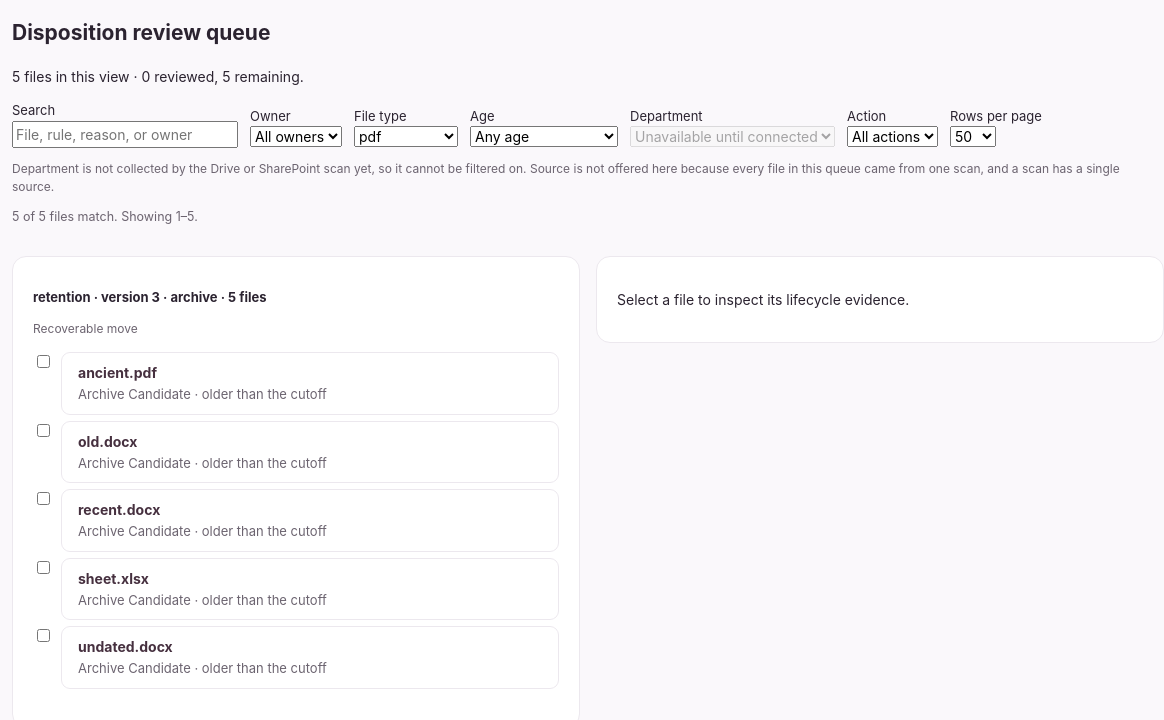
file type › narrows the queue and the count together
Step 1. Select "pdf" in the dropdown labelled "File type" → (406,137), box [354,126,458,147]
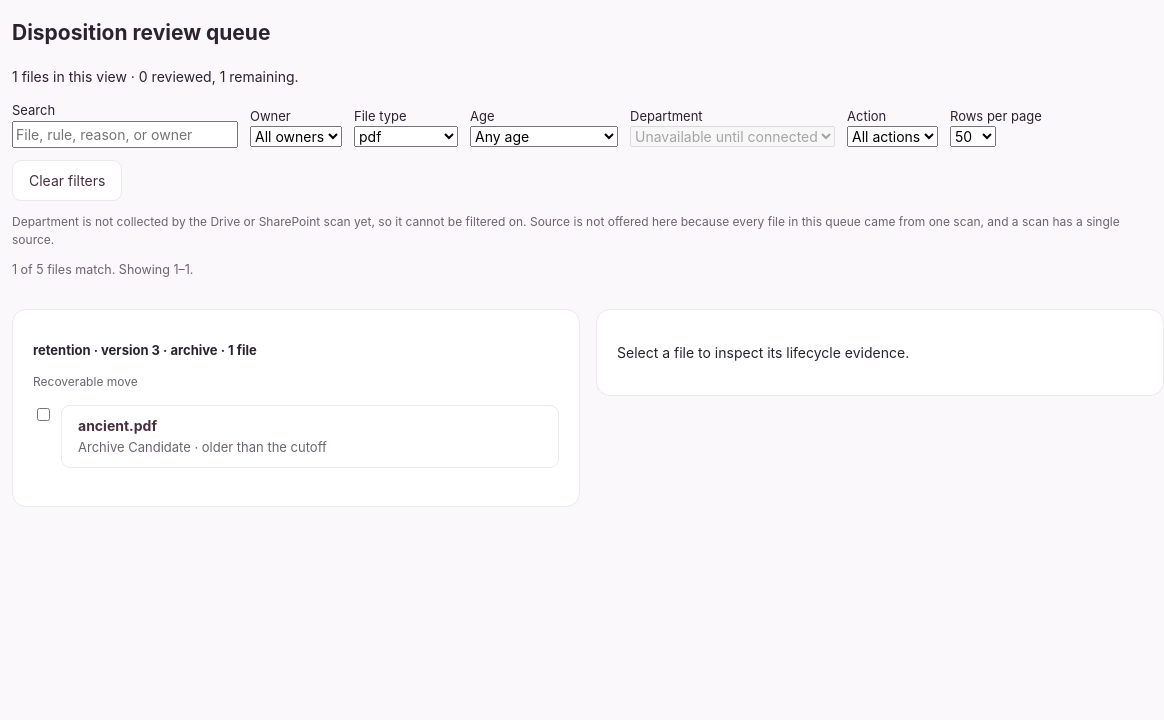
Expected: the text "ancient.pdf" is shown, [78,417,157,434]
Expected: the text "1 files in this view" is shown, [12,68,298,85]
Expected: the text "old.docx" is gone
